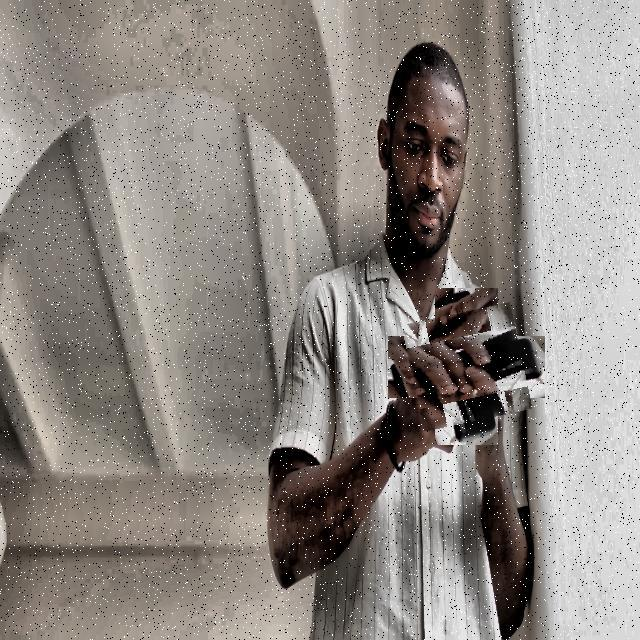Phone: (406, 307, 527, 426)
